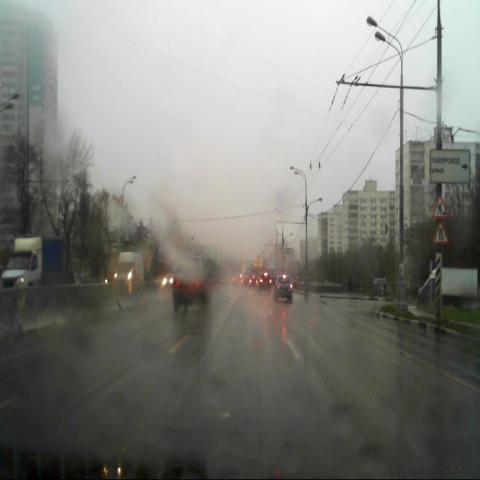1_20_2: (432, 220, 449, 244)
